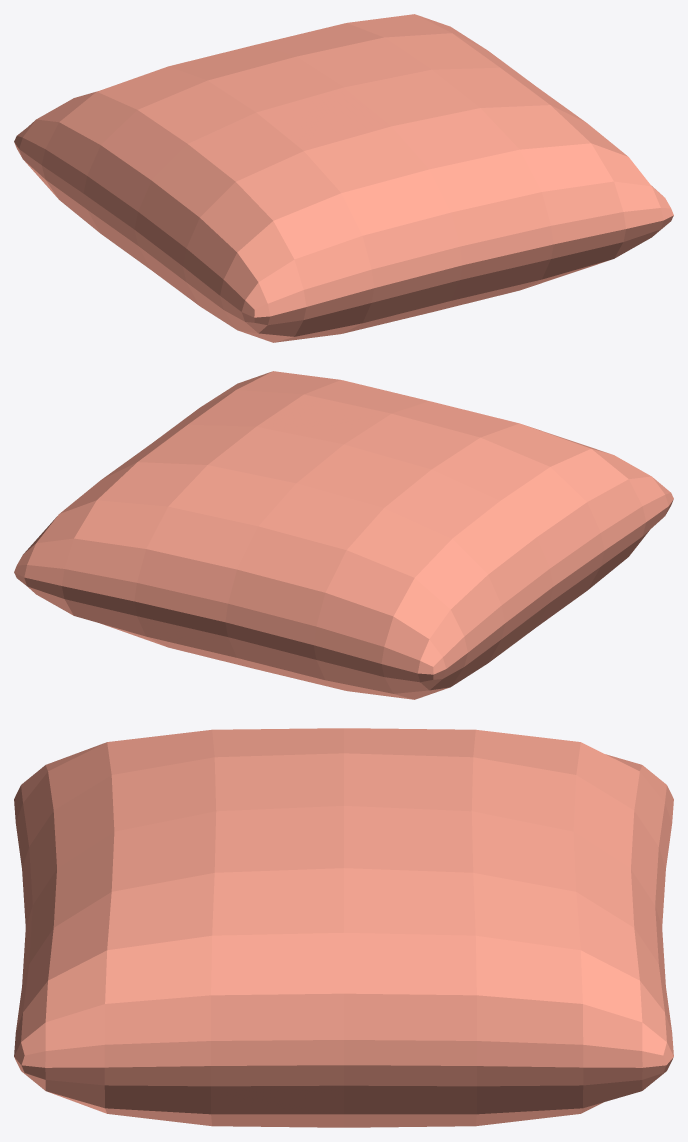
File: Pillow 4.fbx
3 views of the same model, one above another, from view 1: azimuth 30°, elevation 25°; view 2: azimuth 150°, elevation 25°; view 3: azimuth 270°, elevation 25° (orthographic). The views are drawn at different scales.
Visible parts, largest first — view 1: Node 0; view 2: Node 0; view 3: Node 0.
Part boxes in pixels (x1,y1,x2,y2): Node 0: (14, 14, 673, 342); Node 0: (14, 371, 673, 699); Node 0: (14, 728, 673, 1127).
Bounding box in the file's own units: 0.6736 × 0.2751 × 0.6755.
